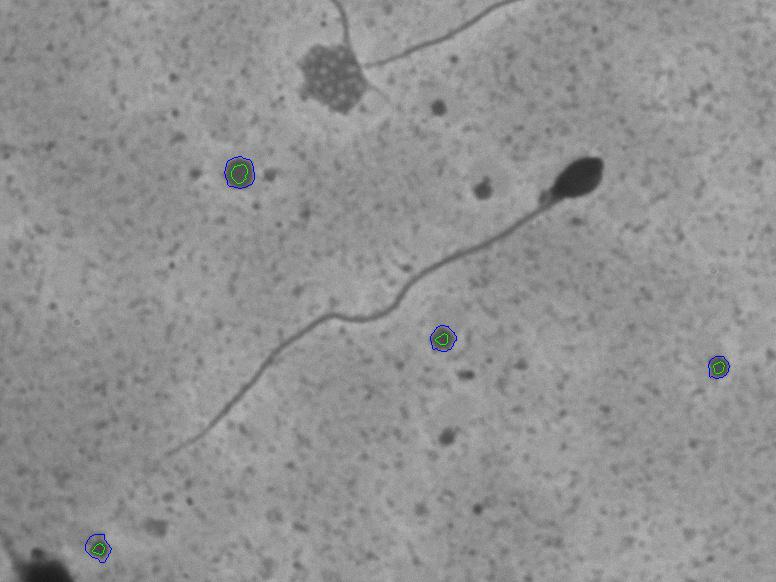Abnormal: (166, 129, 632, 465)
